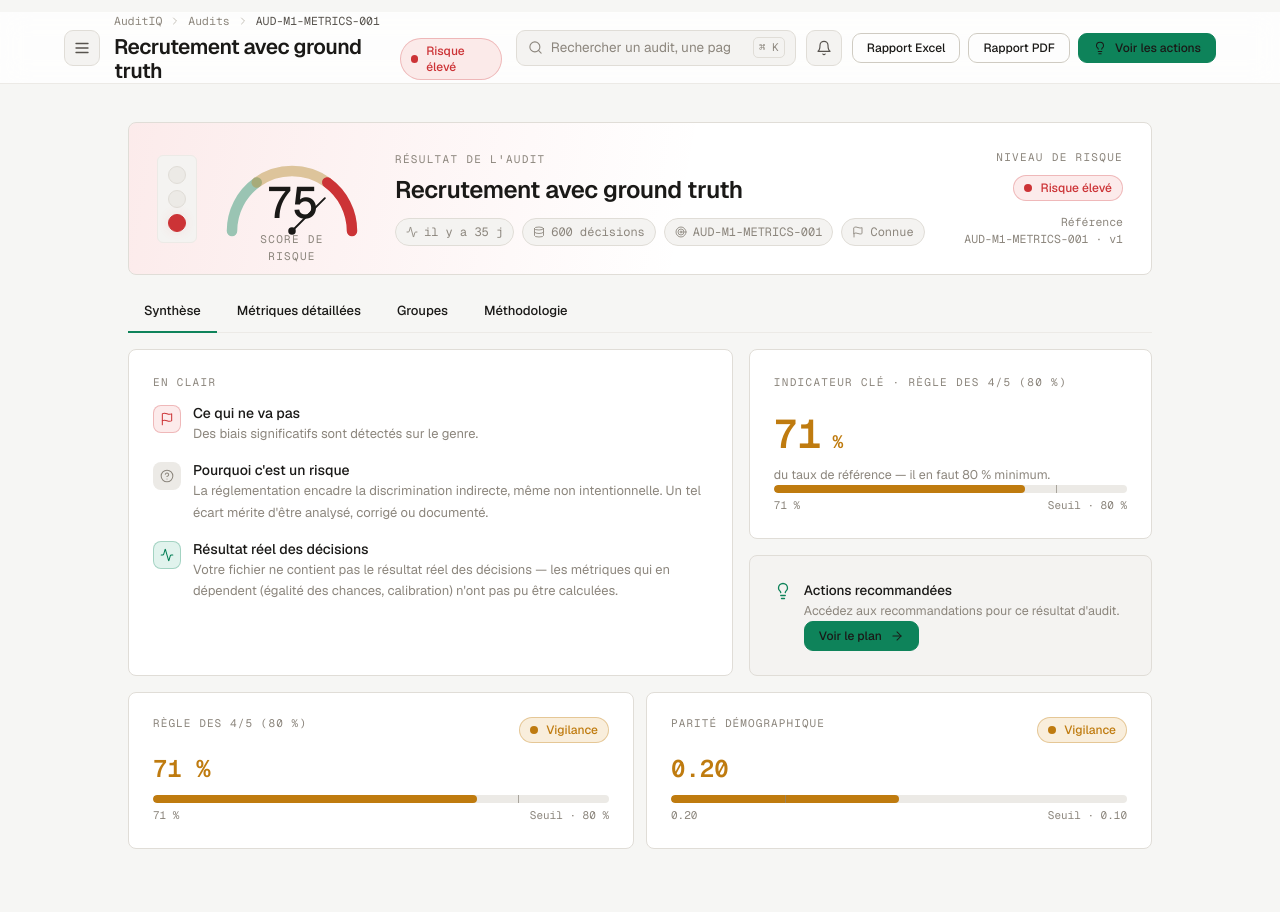
Test: M1 fairlearn metrics — with ground truth › shows DP ratio value in Groupes tab (marginal card)
Click the tab "Groupes": (422, 312) [381,291,464,333]
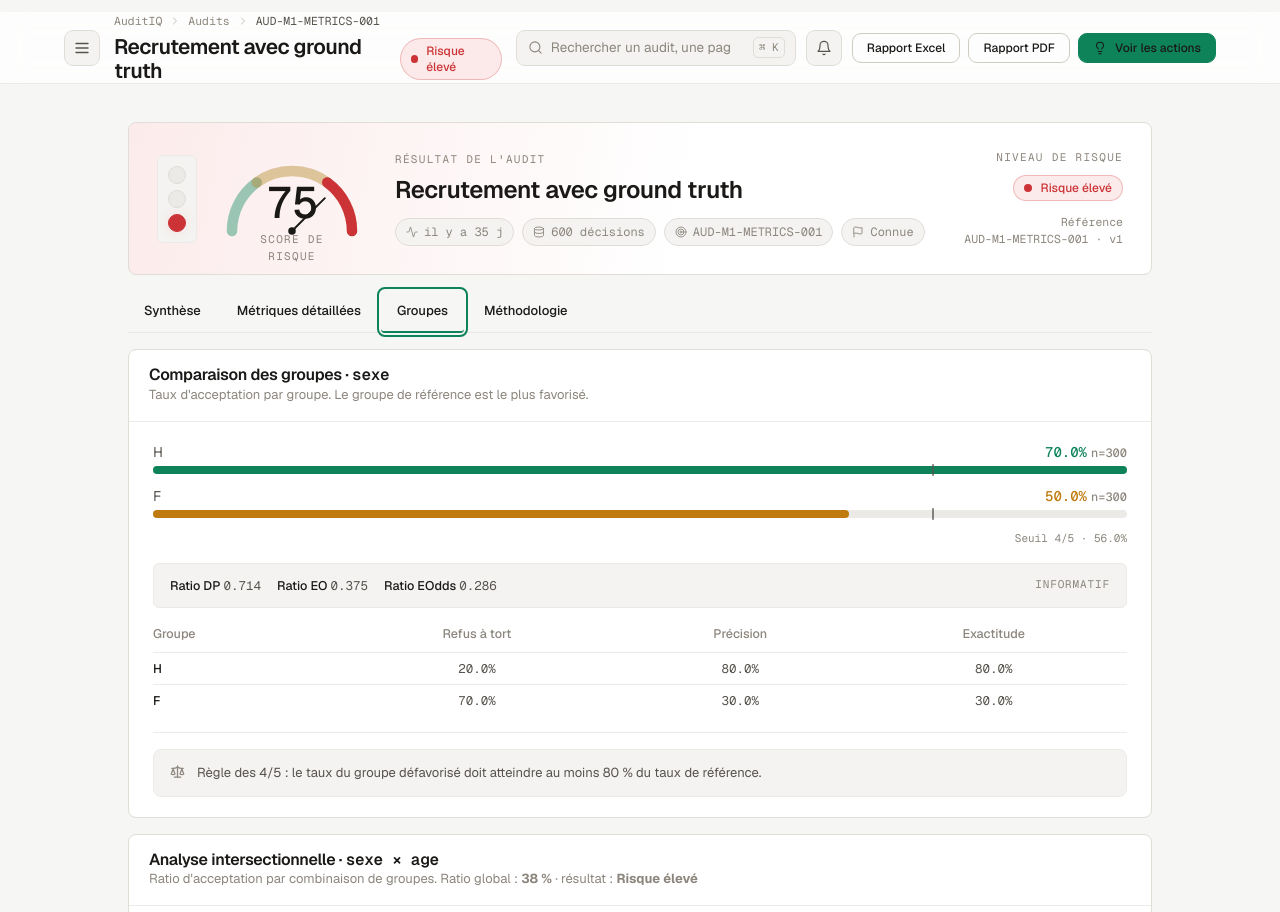
Result: the text "0.714" is shown at [224,577,261,594]
